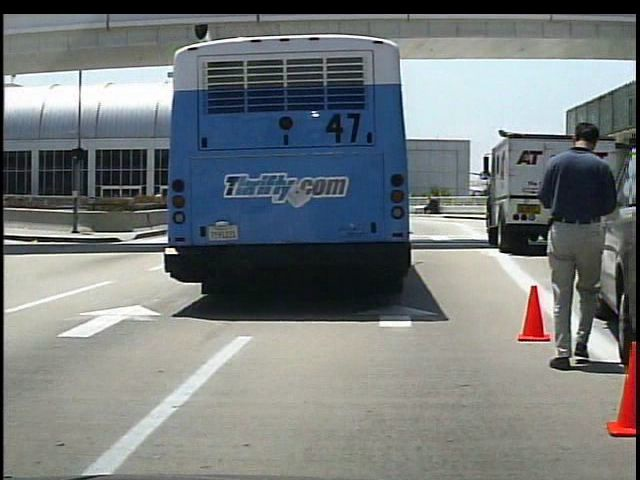person: (534, 118, 617, 371)
